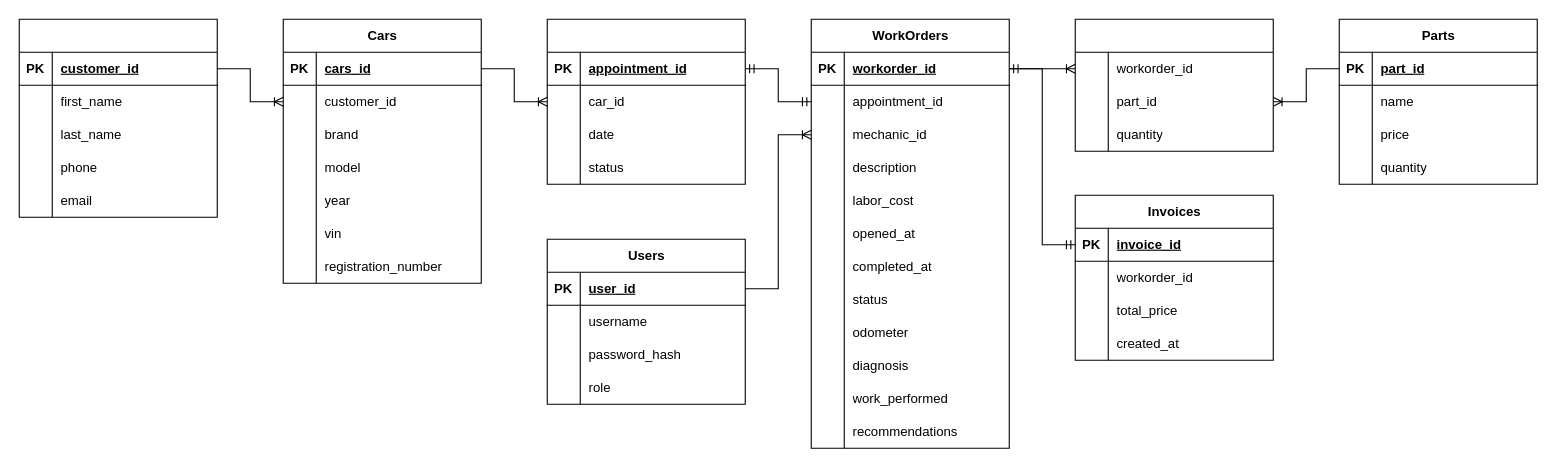
Image size: 1557x468. Some labels were removed from this diagram. The box of each missing label's shape, as (x1, y1, x2, y2) in pixels:
Appointments: (546, 18, 745, 184)
Customers: (18, 18, 217, 217)
WorkOrderParts: (1074, 18, 1273, 151)
